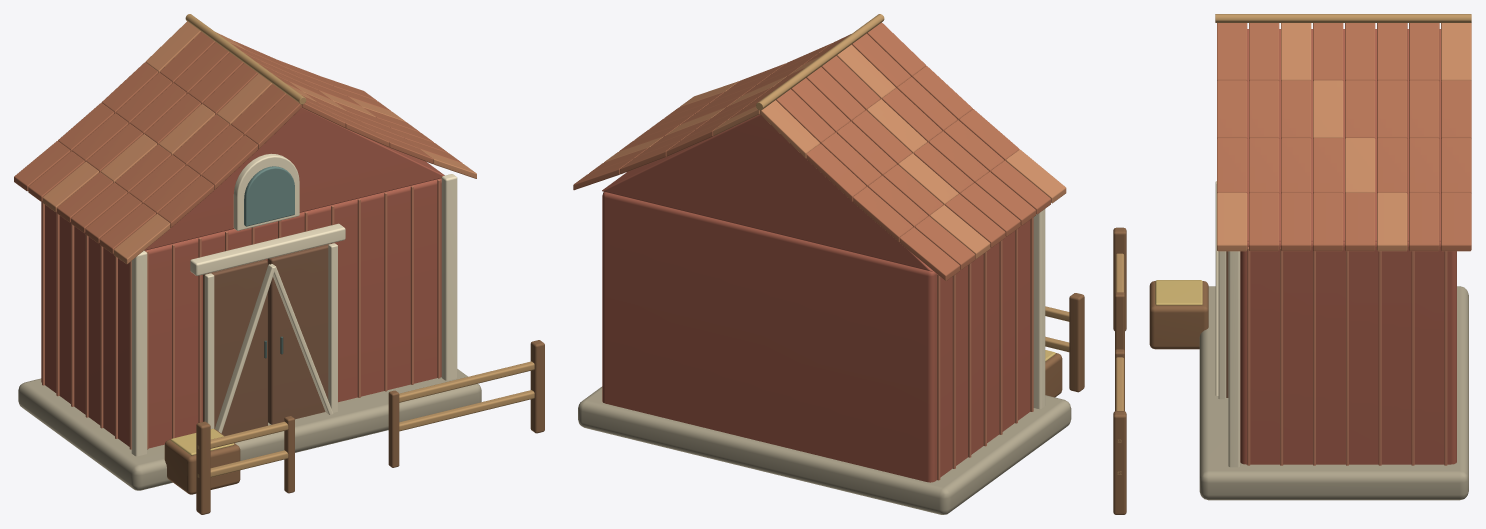
Rendered from cozy_barn.glb.
3 views of the same model, side by side, from view 1: azimuth 30°, elevation 25°; view 2: azimuth 150°, elevation 25°; view 3: azimuth 270°, elevation 25° (orthographic). The views are drawn at different scales.
Parts seen in each view (by area): view 1: barn_BarnRed, barn_Clay, barn_Trim, barn_Door, barn_Stone, barn_BarnLight, barn_ClayLight, barn_Timber, barn_TimberLight, barn_Glass; view 2: barn_BarnRed, barn_Clay, barn_Stone, barn_ClayLight, barn_BarnLight, barn_Trim, barn_Timber, barn_TimberLight; view 3: barn_Clay, barn_BarnRed, barn_Stone, barn_ClayLight, barn_Timber, barn_BarnLight, barn_Trim, barn_TimberLight, barn_Hay, barn_Door.
Boxes of the visible parts, left/top/right/bottom form: barn_BarnRed: left=41, top=107, right=444, bottom=448; barn_Clay: left=14, top=32, right=462, bottom=253; barn_Trim: left=131, top=153, right=457, bottom=456; barn_Door: left=203, top=244, right=329, bottom=435; barn_Stone: left=18, top=369, right=481, bottom=490; barn_BarnLight: left=42, top=179, right=440, bottom=449; barn_ClayLight: left=42, top=21, right=476, bottom=264; barn_Timber: left=164, top=340, right=544, bottom=514; barn_TimberLight: left=185, top=14, right=534, bottom=477; barn_Glass: left=244, top=166, right=294, bottom=226; barn_BarnRed: left=602, top=114, right=1030, bottom=482; barn_Clay: left=573, top=22, right=1050, bottom=280; barn_Stone: left=578, top=386, right=1071, bottom=514; barn_ClayLight: left=604, top=44, right=1066, bottom=258; barn_BarnLight: left=937, top=217, right=1033, bottom=480; barn_Trim: left=1033, top=209, right=1045, bottom=409; barn_Timber: left=1045, top=293, right=1084, bottom=397; barn_TimberLight: left=756, top=14, right=1069, bottom=352; barn_Clay: left=1217, top=23, right=1471, bottom=251; barn_BarnRed: left=1240, top=29, right=1456, bottom=464; barn_Stone: left=1199, top=286, right=1468, bottom=500; barn_ClayLight: left=1217, top=23, right=1471, bottom=251; barn_Timber: left=1113, top=227, right=1208, bottom=514; barn_BarnLight: left=1247, top=247, right=1447, bottom=465; barn_Trim: left=1215, top=181, right=1240, bottom=467; barn_TimberLight: left=1115, top=14, right=1471, bottom=474; barn_Hay: left=1155, top=280, right=1202, bottom=305; barn_Door: left=1226, top=251, right=1228, bottom=397.
Size of the model in its own units: 3.68 by 3.3 by 2.72.
